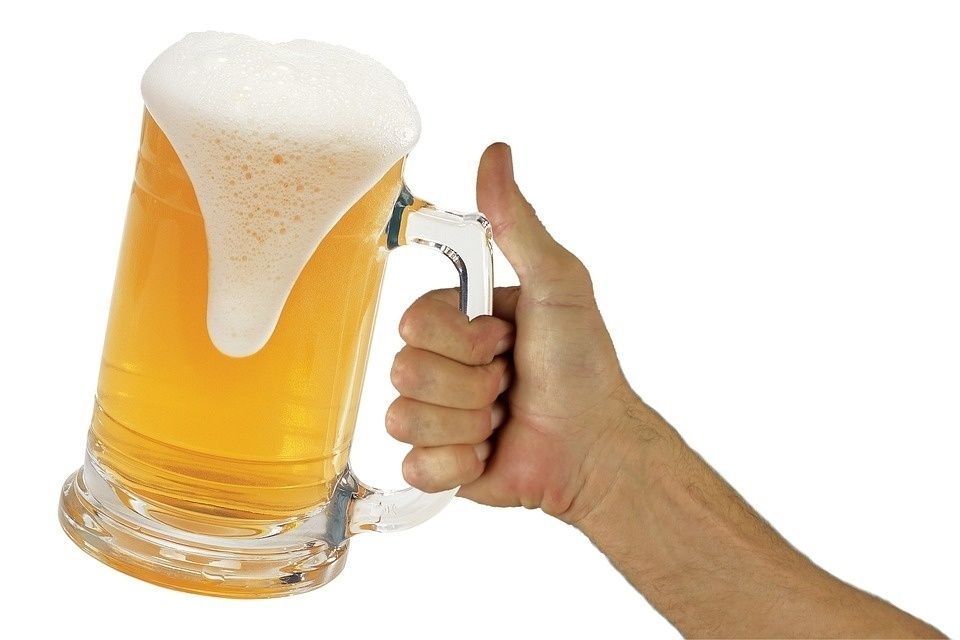whiskey: (62, 76, 424, 593)
